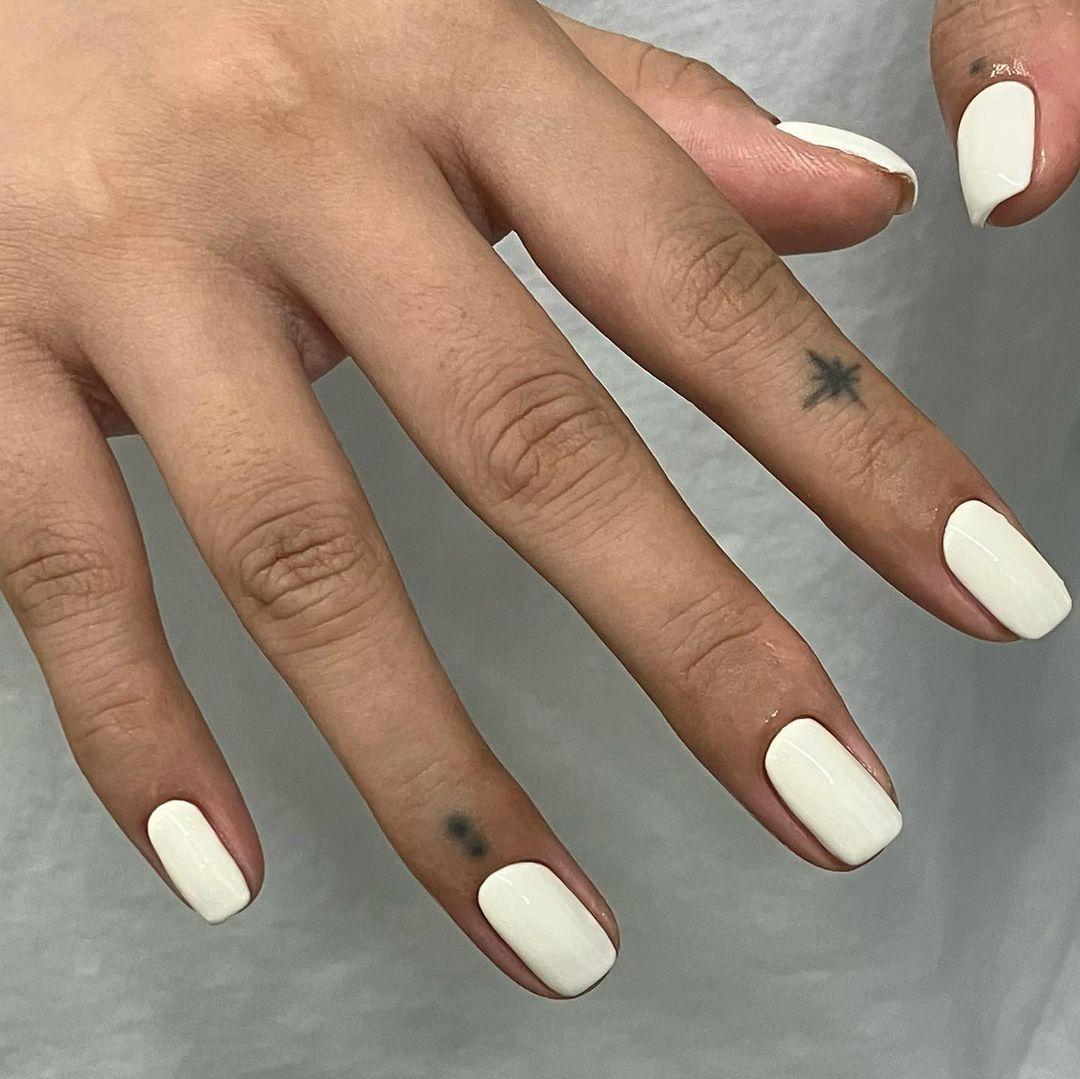nail: (762, 714, 903, 868), (475, 858, 618, 998), (939, 496, 1072, 641), (773, 117, 918, 216), (144, 796, 252, 924), (954, 76, 1038, 228)
